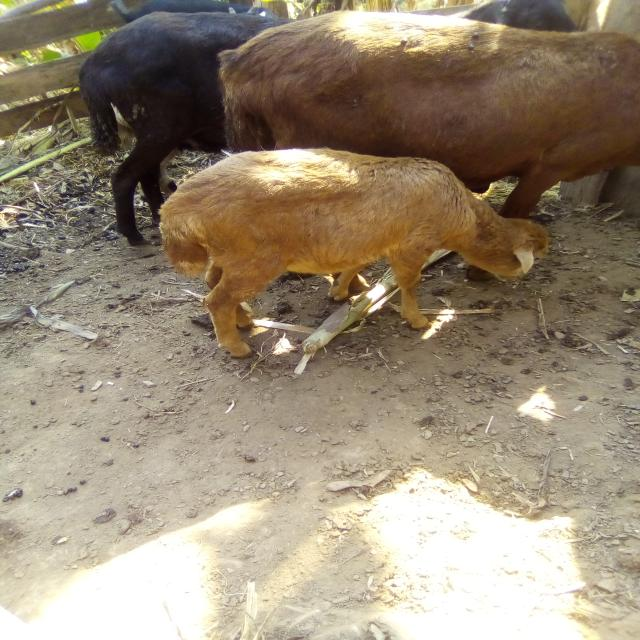sheep: (155, 140, 563, 362)
